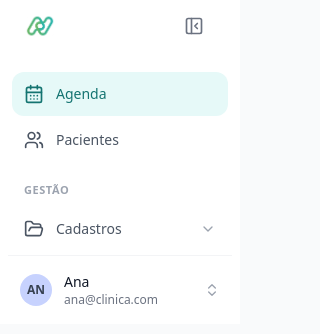
Test: Sidebar — menu da conta › abre com Configurações e Sair e fecha com Esc devolvendo o foco
Click the button with aria-label "Menu da conta de Ana".
click(120, 290)  # box [12, 264, 228, 316]
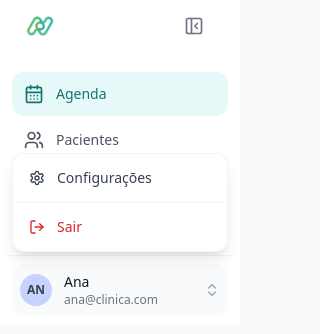
Check: the menu items read "Configurações", "Sair", in this order, box [29, 168, 152, 186]; [17, 206, 223, 246]
Press Escape
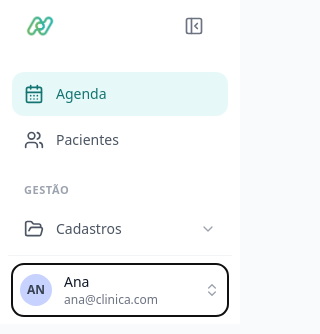
Check: the menu is gone
